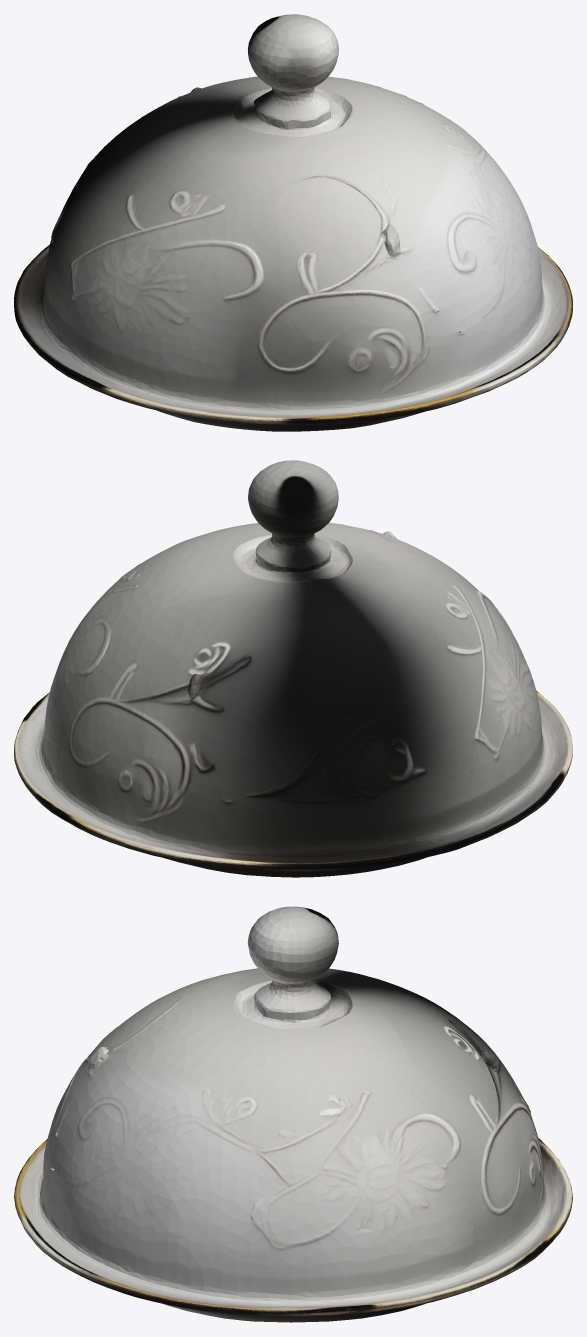
File: porcelain-cheese-dome-3d.jpeg.glb
3 views of the same model, one above another, from view 1: azimuth 30°, elevation 25°; view 2: azimuth 150°, elevation 25°; view 3: azimuth 270°, elevation 25° (orthographic).
Parts seen in each view (by area): view 1: world; view 2: world; view 3: world.
Part boxes in pixels (x1,y1,x2,y2): world: [14, 14, 572, 431]; world: [14, 460, 572, 877]; world: [14, 906, 572, 1322].
Size of the model in its own units: 0.9943 by 0.6383 by 0.9993.
Materials: 1 (1 with a texture image).
